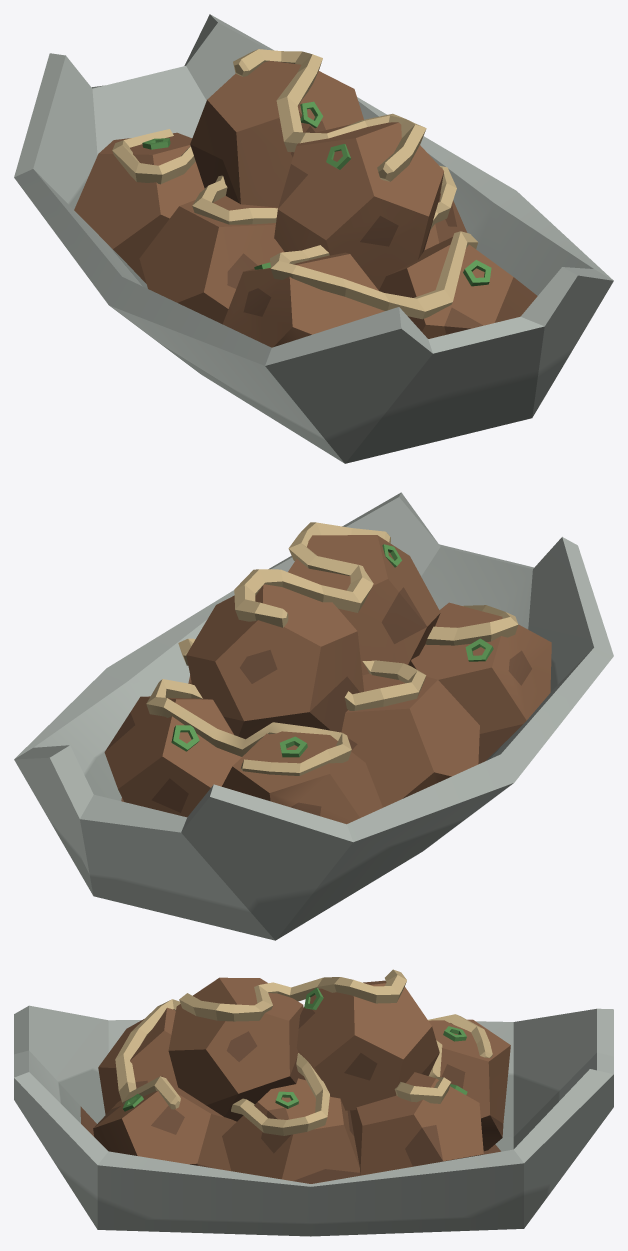
File: SM_Prop_Food_Plates_01.fbx
The picture shows the model from 3 angles, top to bottom: view 1: azimuth 30°, elevation 25°; view 2: azimuth 150°, elevation 25°; view 3: azimuth 270°, elevation 25°; orthographic projection. The views are drawn at different scales.
Visible parts, largest first — view 1: SM_Prop_Food_Plates_01; view 2: SM_Prop_Food_Plates_01; view 3: SM_Prop_Food_Plates_01.
Boxes of the visible parts, box(x1,y1,x2,y2) form: SM_Prop_Food_Plates_01: box(14, 14, 613, 463); SM_Prop_Food_Plates_01: box(14, 492, 613, 940); SM_Prop_Food_Plates_01: box(14, 969, 613, 1236).
Size of the model in its own units: 28.73 by 18.02 by 43.92.
